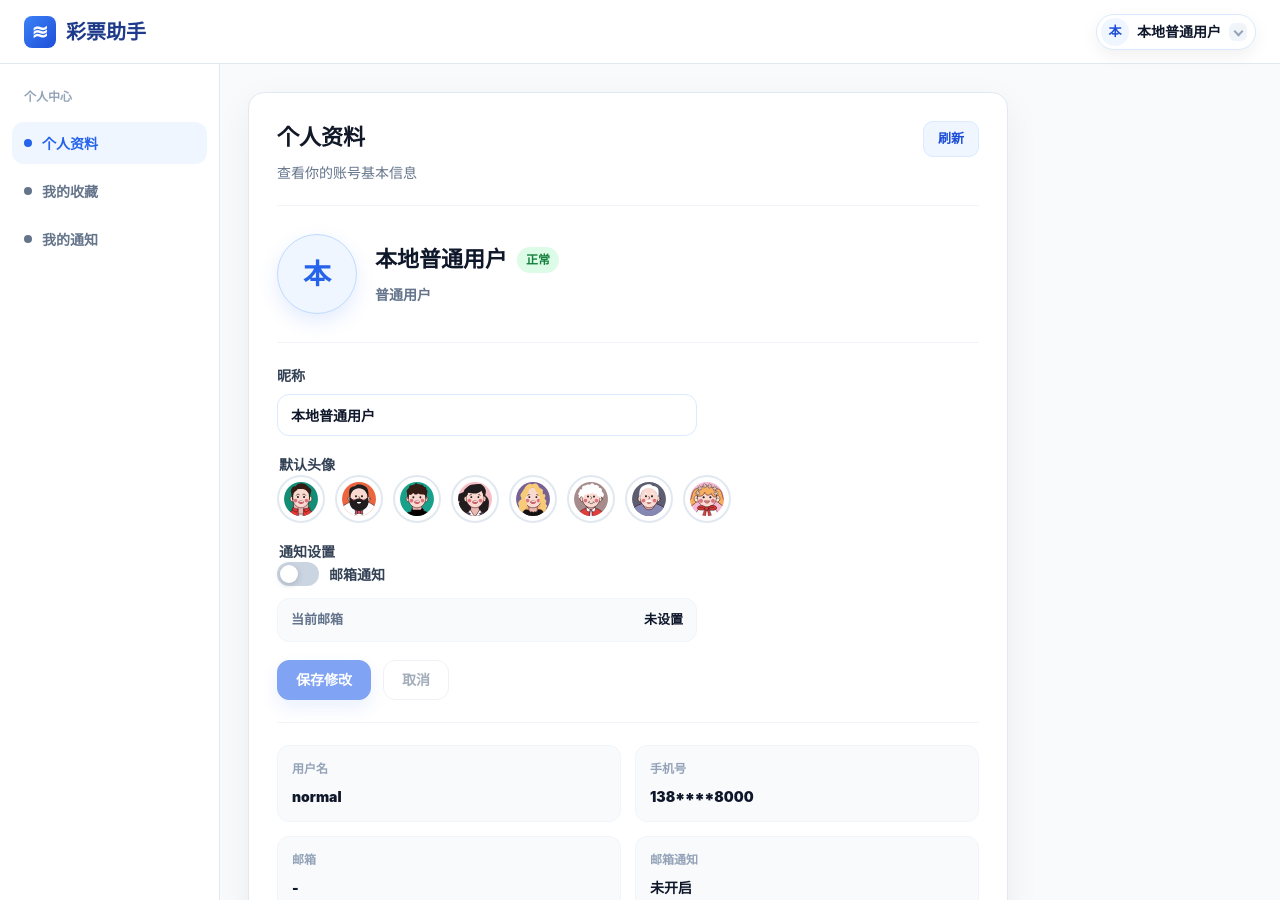
Test: ProfileView › requires notification email when enabling email notification without existing email
This screenshot has width=1280, height=900.
Click the checkbox labelled "邮箱通知".
click(331, 574)  # box [277, 562, 385, 586]
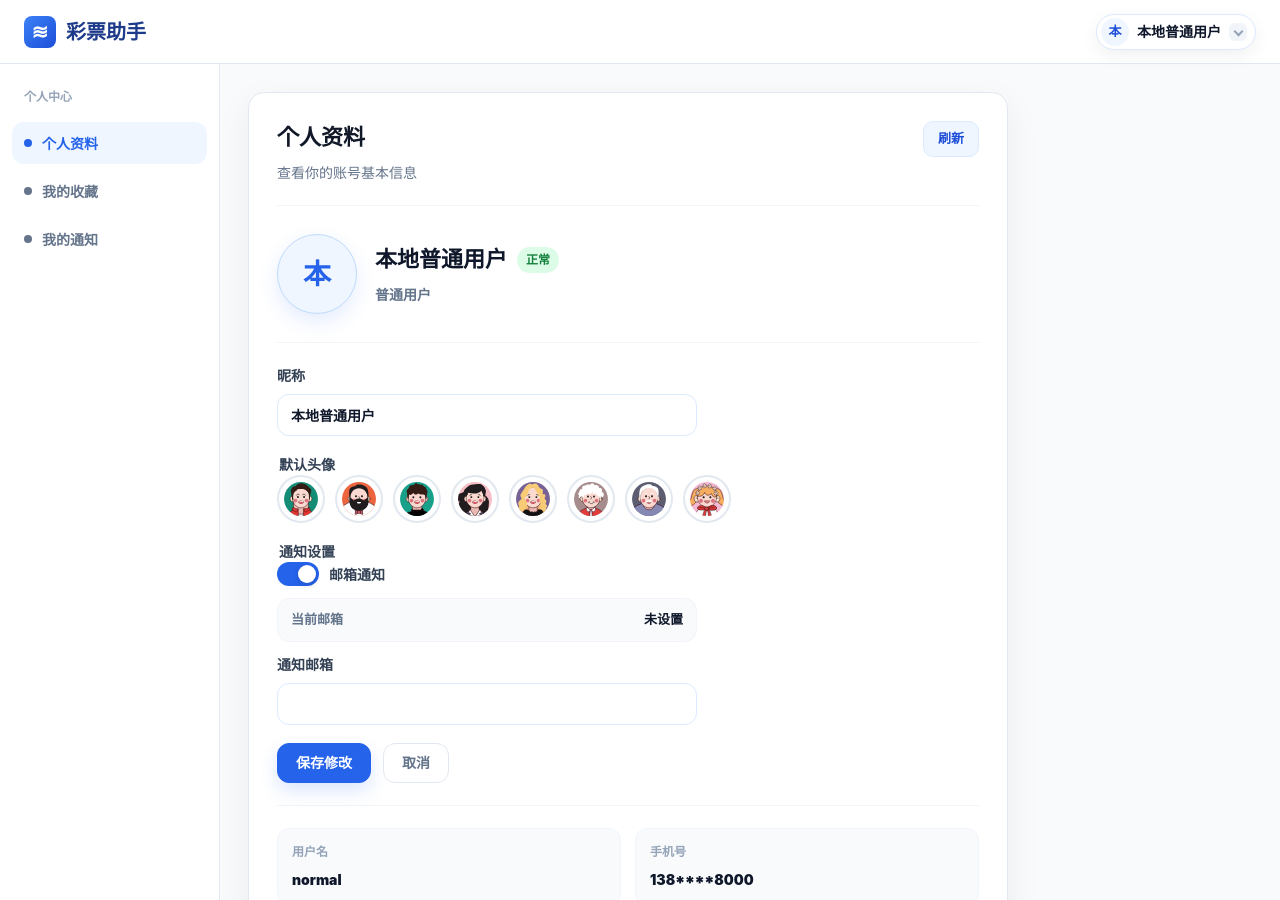
Result: the field with id "notificationEmail" is shown
Type "new@example.com" into the field with id "notificationEmail".
click(487, 704); type("new@example.com")  # box [277, 682, 697, 724]
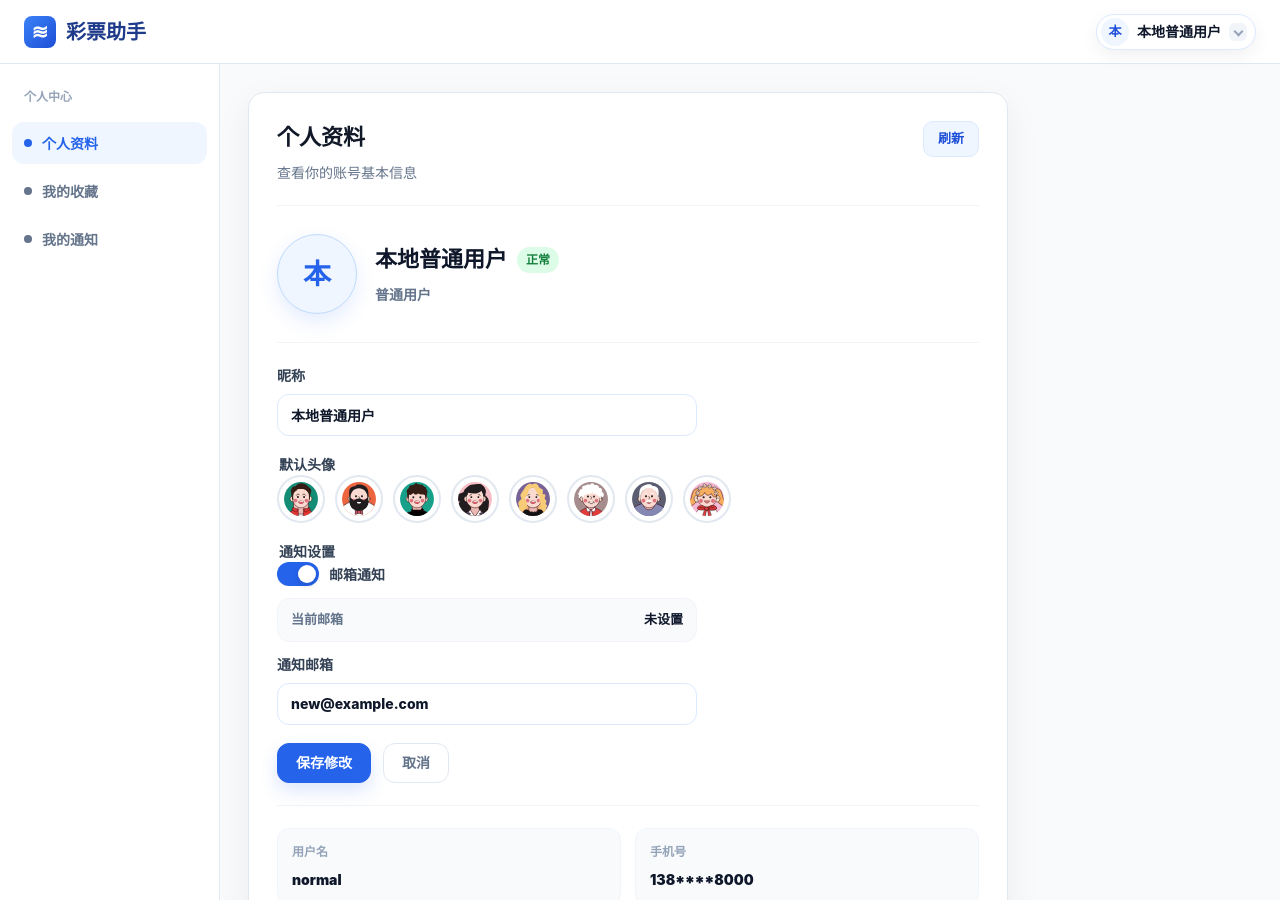
Submit the form, box [277, 342, 979, 806]
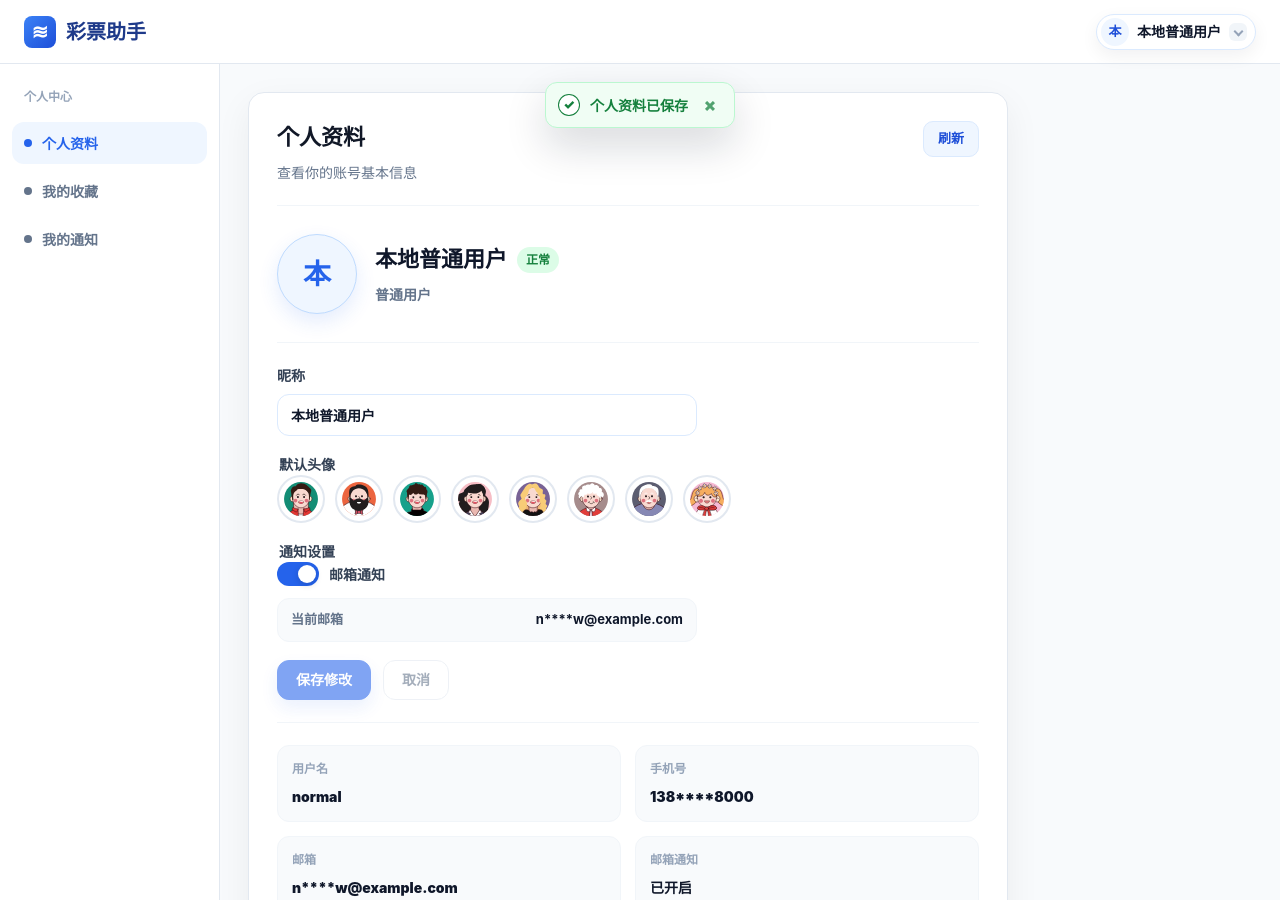
Result: the text "个人资料已保存" is shown at [590, 94, 688, 116]
Result: the text "已开启" is shown at [650, 878, 692, 896]
